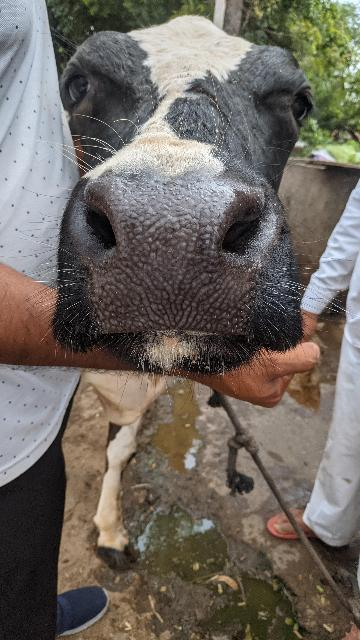Muzzle: (85, 176, 255, 334)
